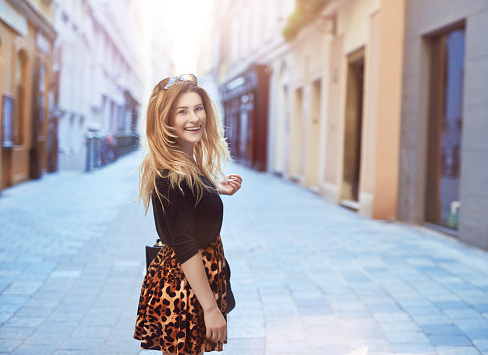em pe: (113, 70, 247, 343)
